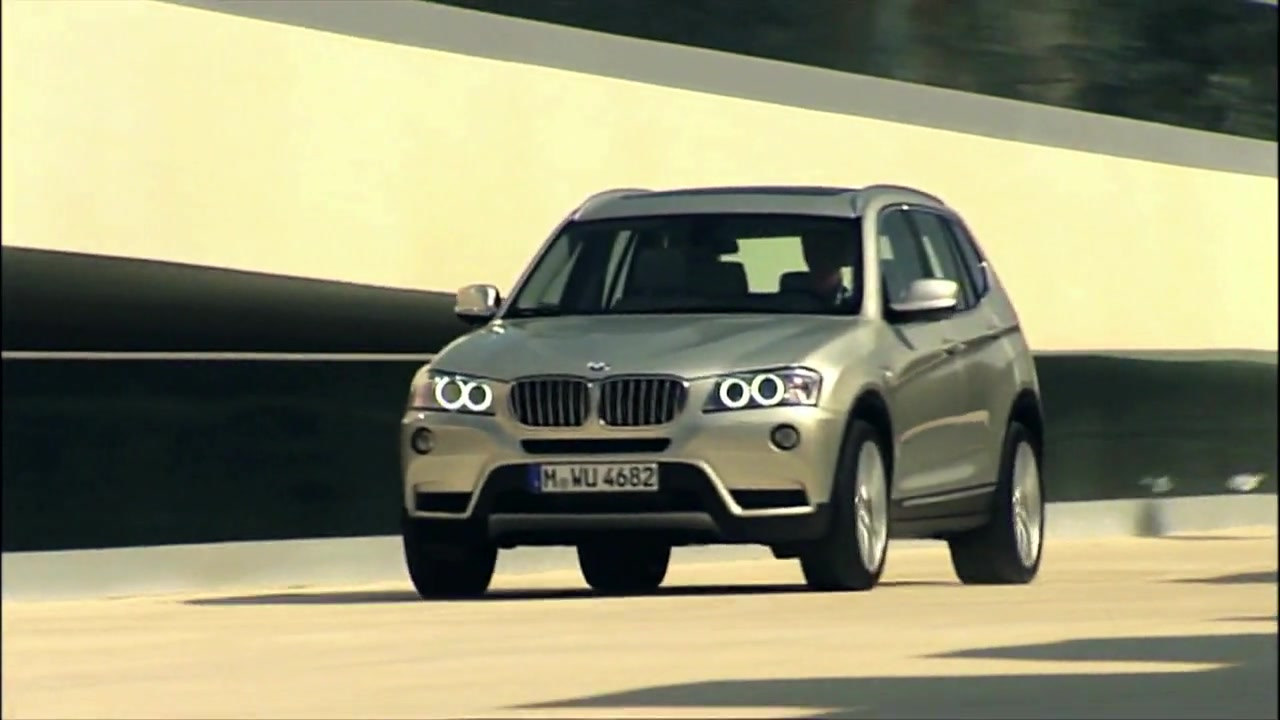car: (399, 182, 1049, 591)
